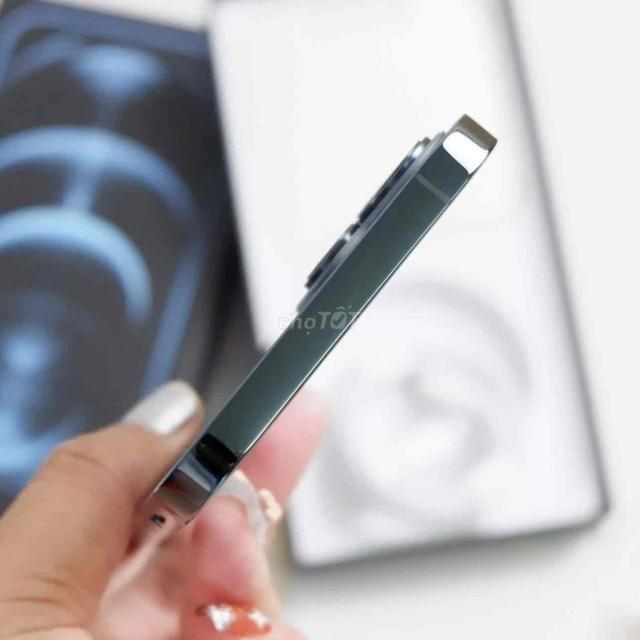gen_12_13: (134, 116, 498, 517)
